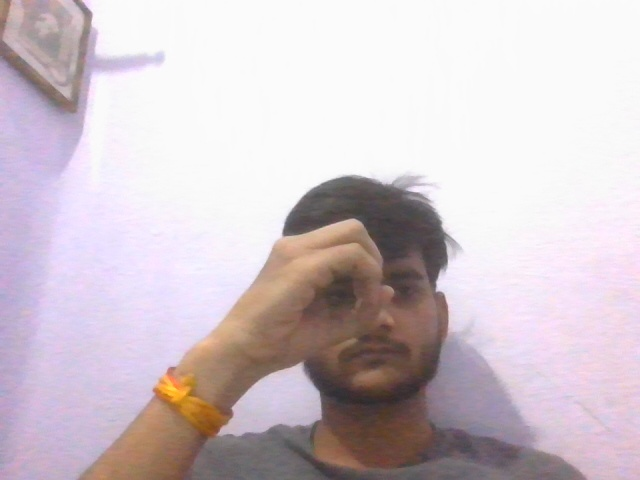no: (200, 213, 397, 373)
